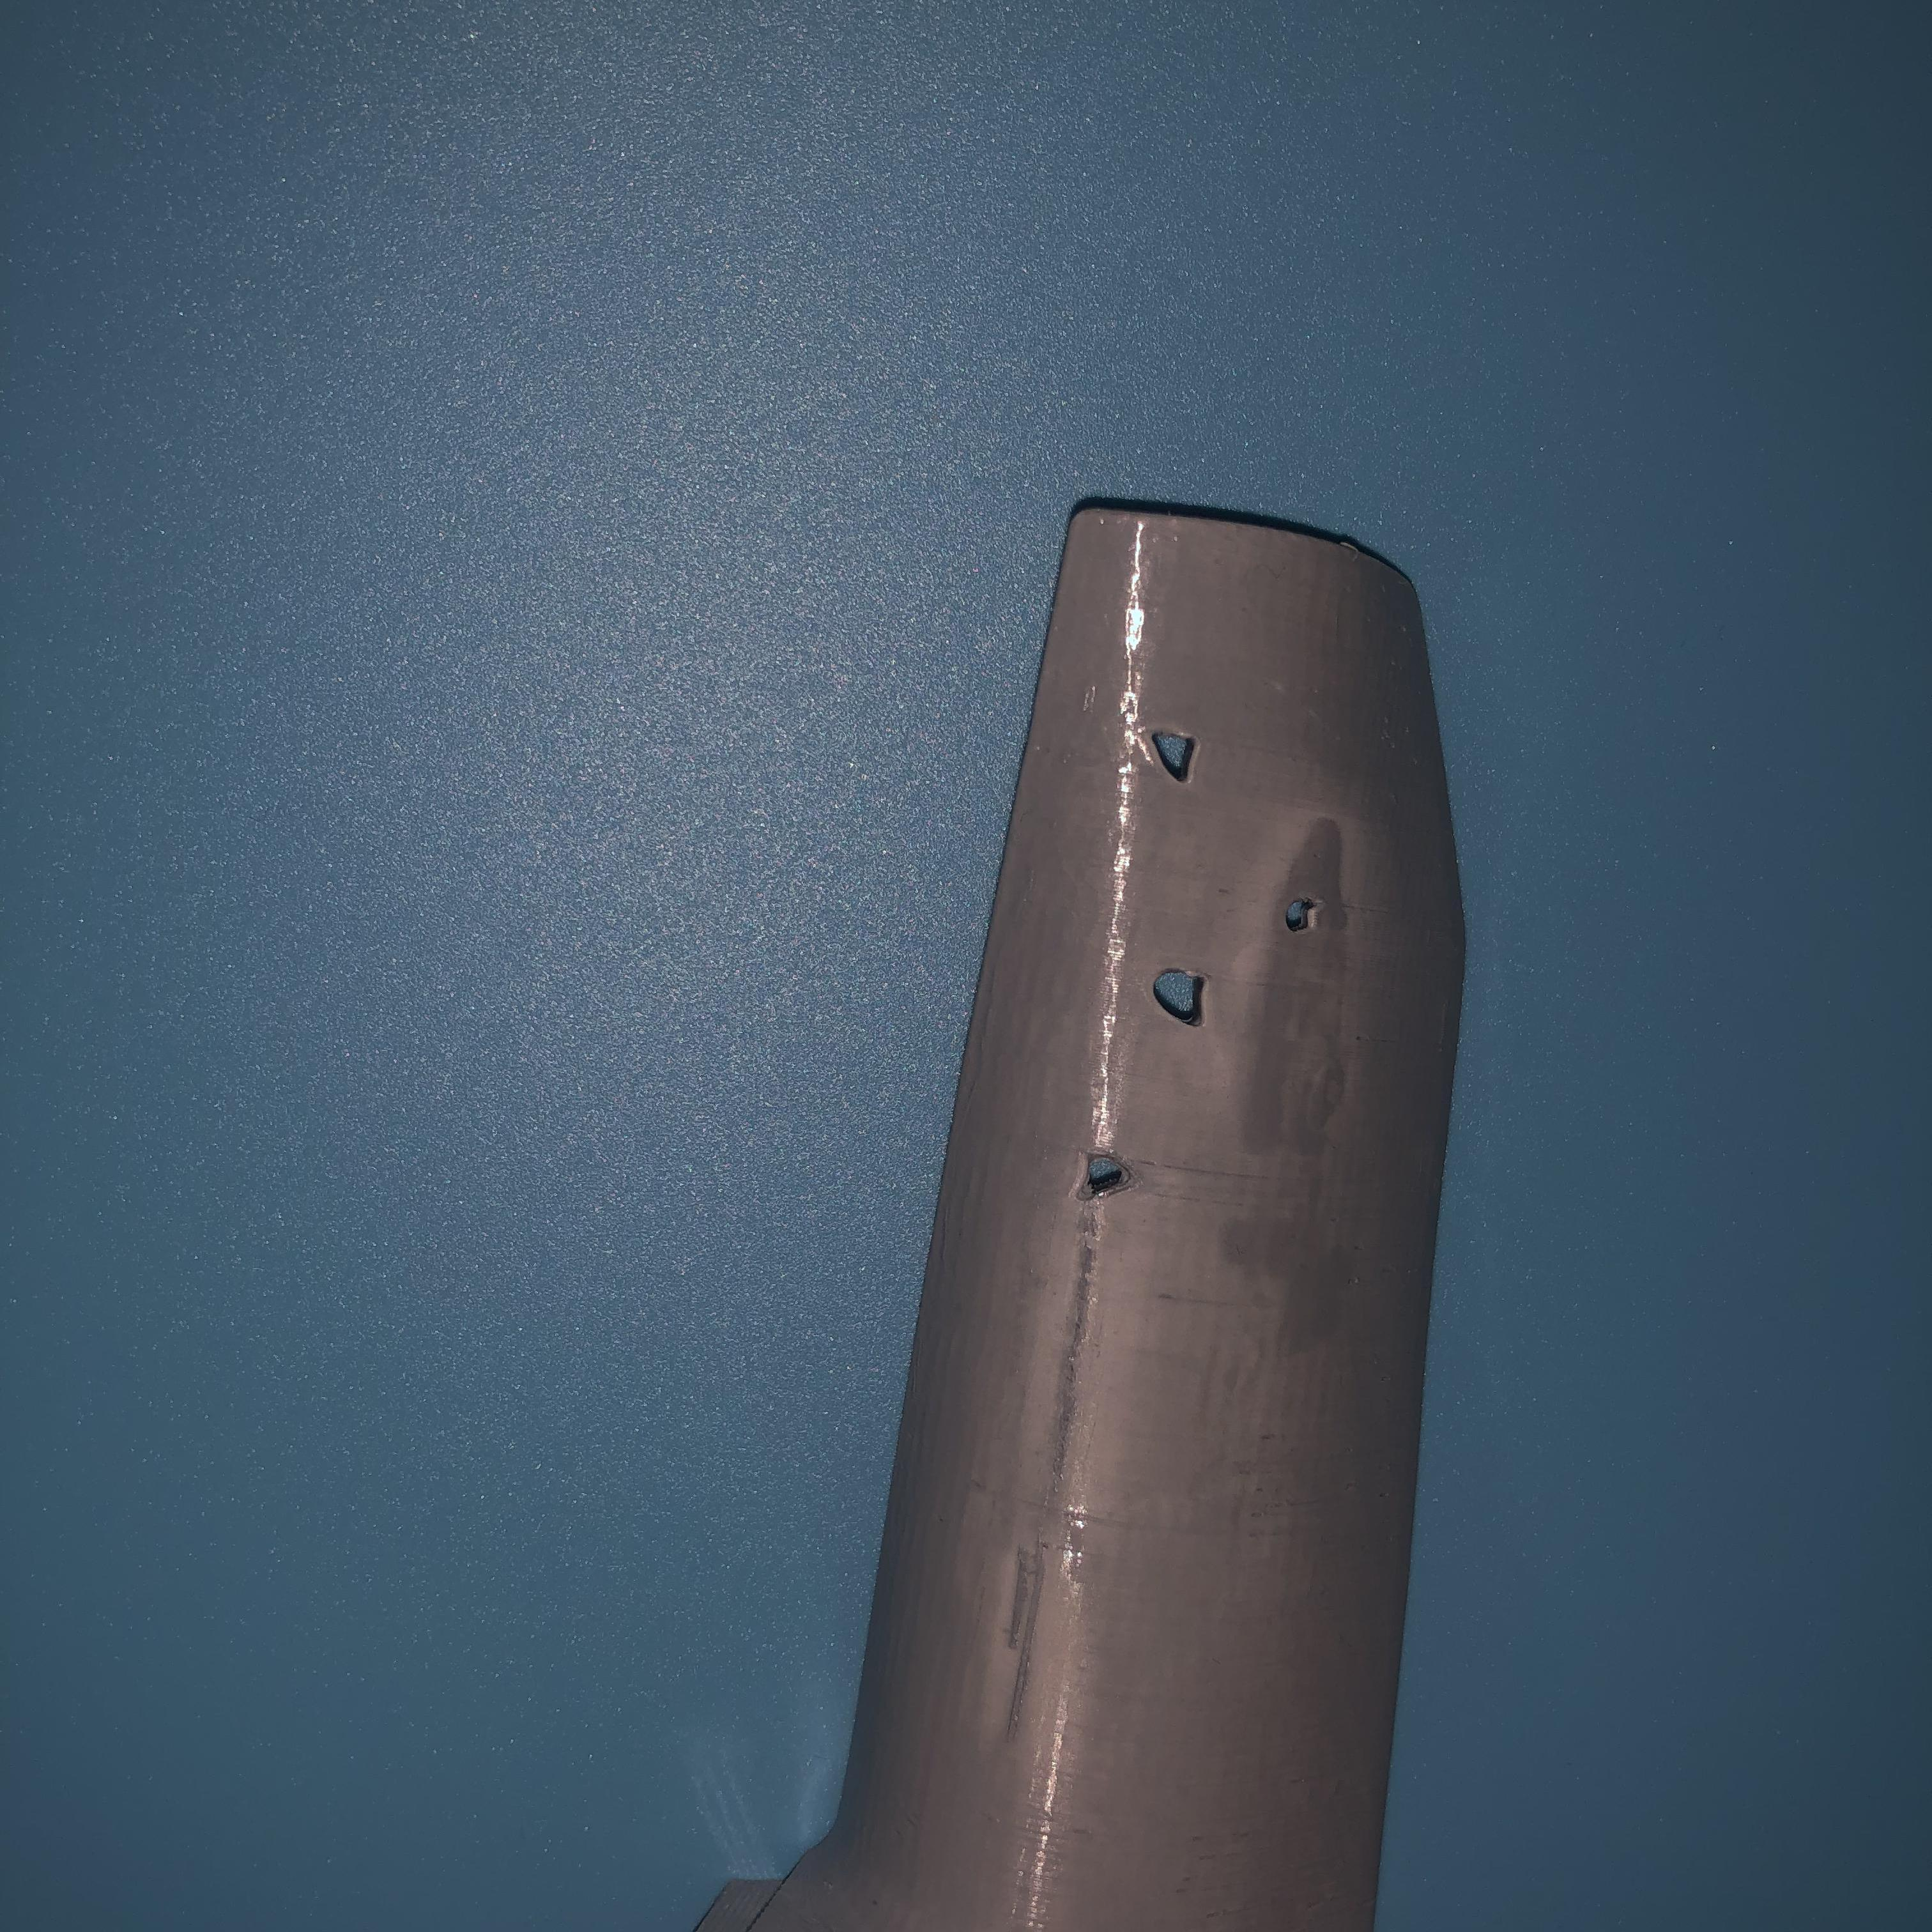breakdown: (1129, 954, 1238, 1030), (1132, 711, 1219, 800), (1081, 1143, 1146, 1205), (1279, 881, 1332, 945)
